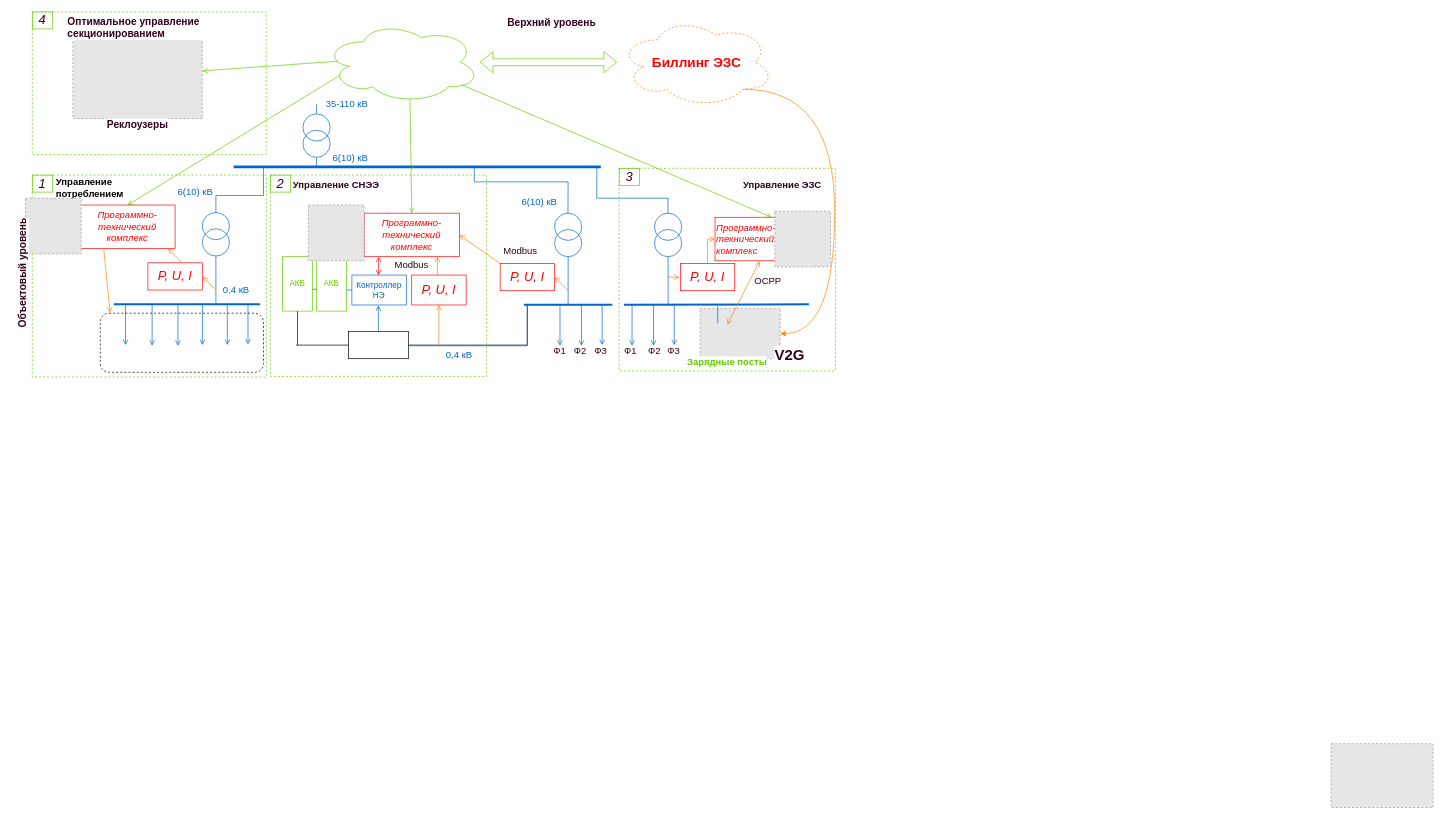
The diagram is 1445 pixels wide and 819 high, and some of its shapes have lost their labels. Grey dashed boxes stand in for pictures. The shapes that lost their labels are listed below. From the top down, each one's centre as x and y in pixels, then its label:
At point (402, 62): "On-premise".
At point (182, 342): "Активные потребители".
At point (378, 345): "Инвертор".
